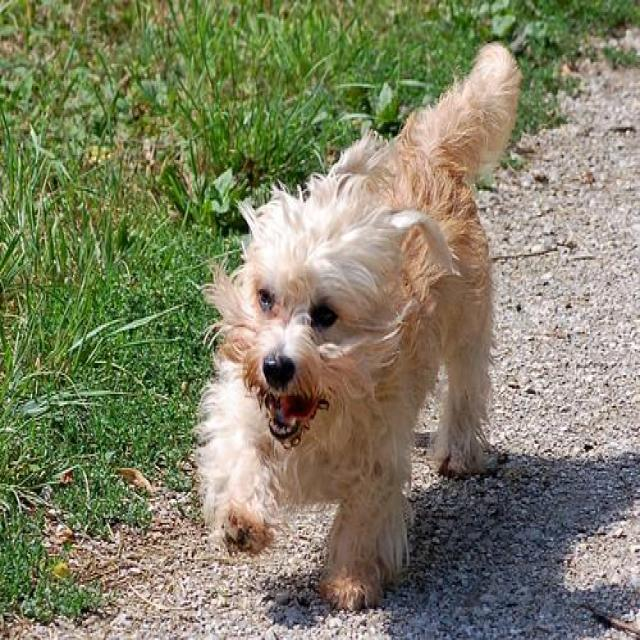happy: (180, 30, 520, 611)
